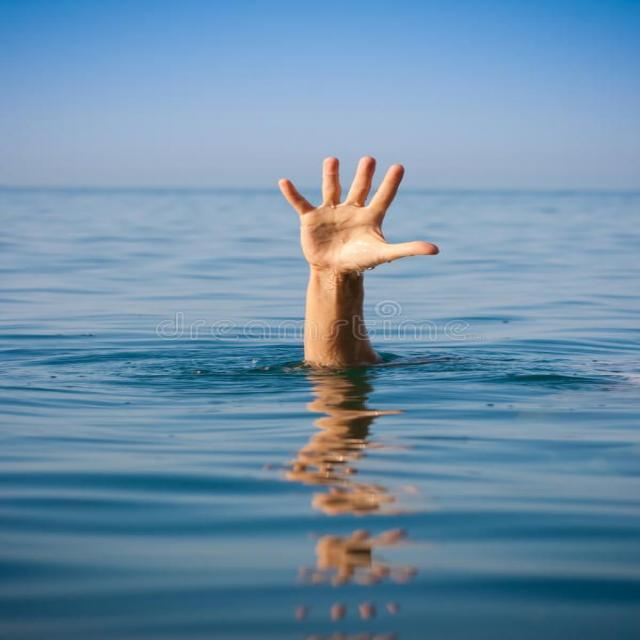Out of Water: (254, 148, 486, 436)
